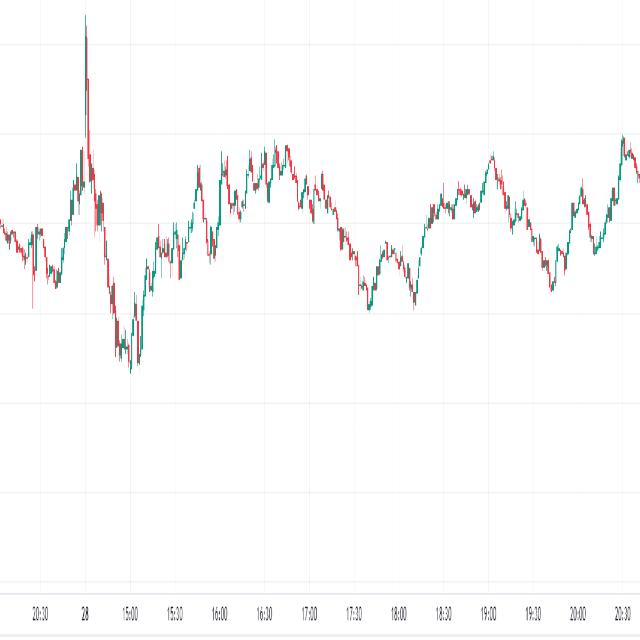Rounding-Top: (141, 112, 369, 316), (414, 136, 550, 288)
